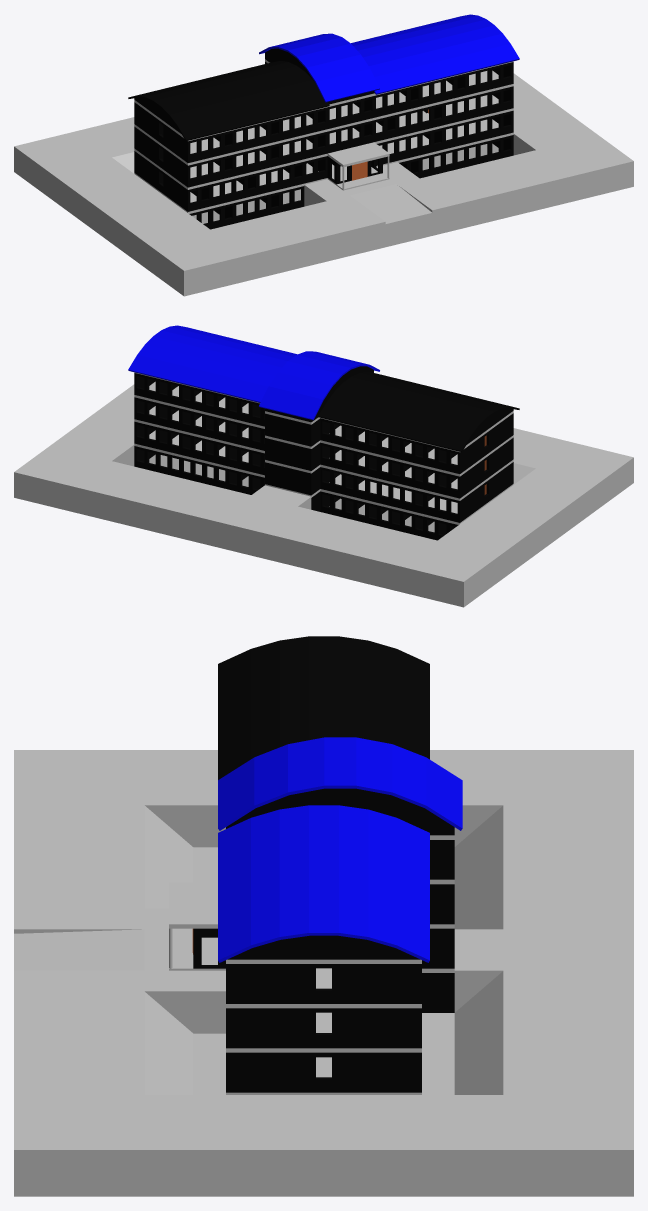
Rendered from Allplan-2008-Institute-Var-2-IFC.dae.
The picture shows the model from 3 angles, top to bottom: view 1: azimuth 30°, elevation 25°; view 2: azimuth 150°, elevation 25°; view 3: azimuth 270°, elevation 25°; orthographic projection. The views are drawn at different scales.
Visible parts, largest first — view 1: node (×26); view 2: node (×29); view 3: node (×32).
Part boxes in pixels (box(x1,y1,x2,y2)): node (×26): box(14, 14, 633, 296); node (×29): box(14, 325, 633, 607); node (×32): box(14, 636, 633, 1196).
Size of the model in its own units: 58000 by 38000 by 15900.
